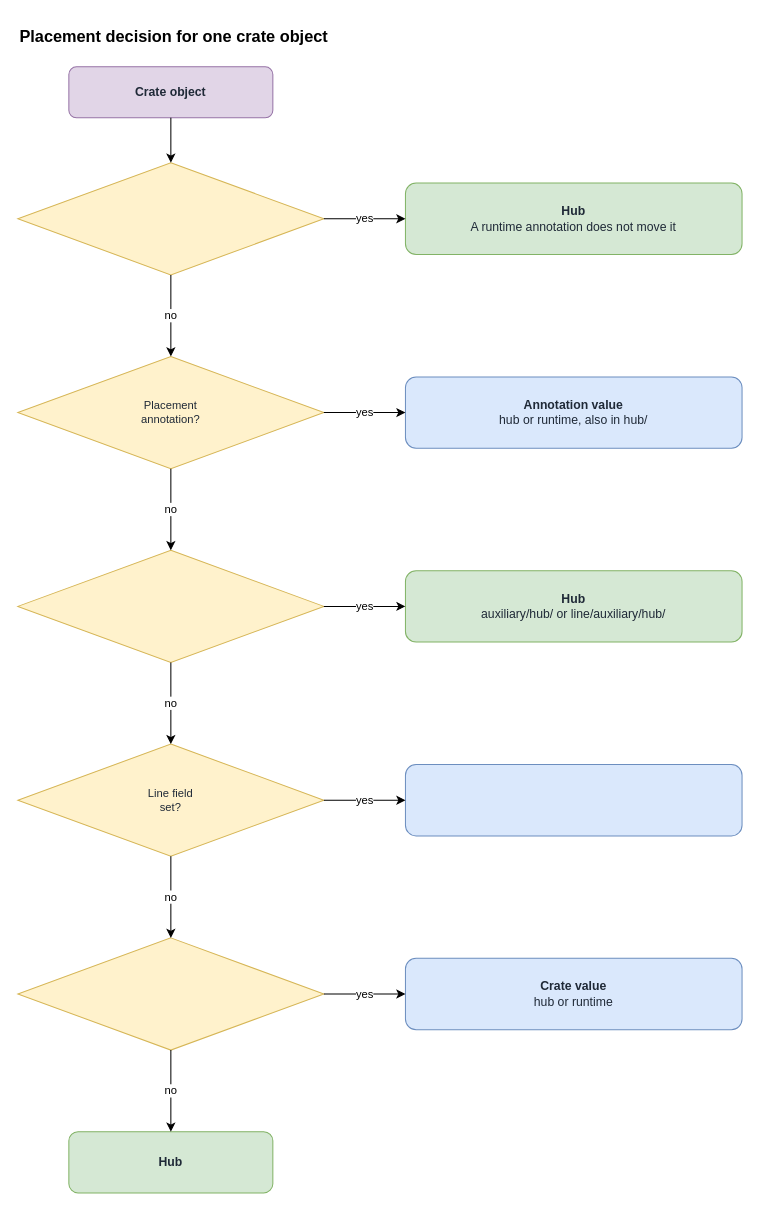
The diagram is 770 pixels wide and 1211 high, and some of its shapes have lost their labels. Each missing label, with the box of its shape:
Crate field set?: (17, 937, 324, 1050)
Definition?: (17, 162, 324, 275)
File directly in hub/?: (17, 549, 324, 662)
Line value hub or runtime: (404, 763, 742, 836)
